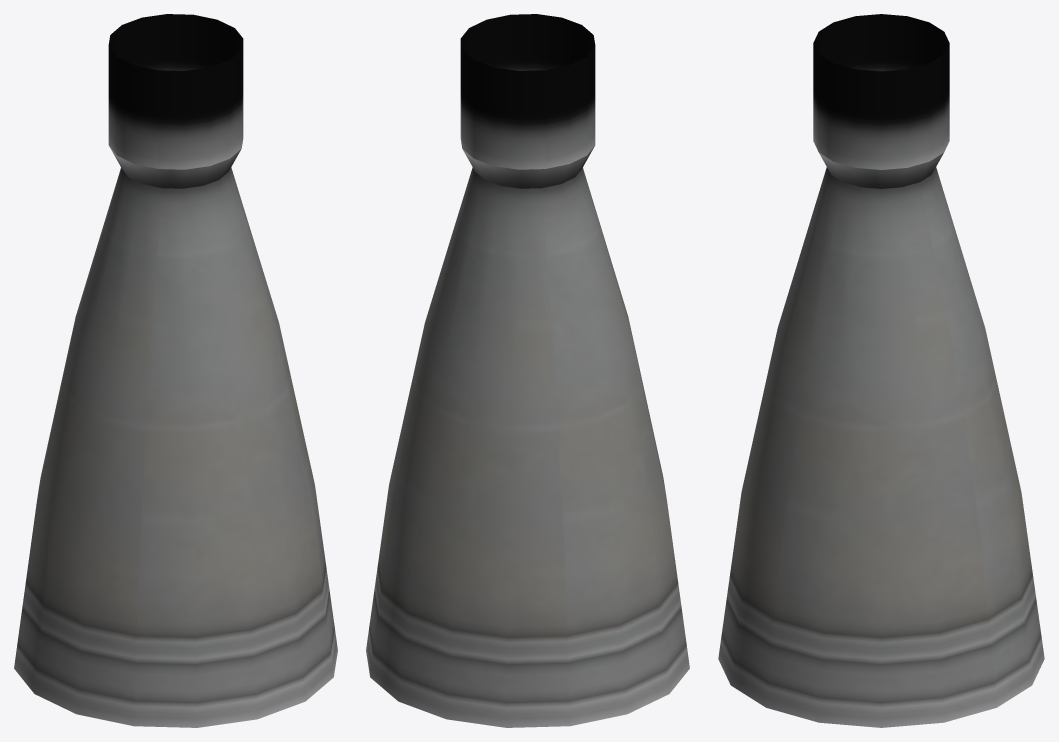
File: HLV_2_Engine_1_Vernier.obj
3 views of the same model, side by side, from view 1: azimuth 30°, elevation 25°; view 2: azimuth 150°, elevation 25°; view 3: azimuth 270°, elevation 25° (orthographic).
Parts seen in each view (by area): view 1: HLV_2_Engine_1_Vernier; view 2: HLV_2_Engine_1_Vernier; view 3: HLV_2_Engine_1_Vernier.
Part boxes in pixels (<box>): HLV_2_Engine_1_Vernier: <box>14,14,337,727</box>; HLV_2_Engine_1_Vernier: <box>366,14,689,727</box>; HLV_2_Engine_1_Vernier: <box>718,14,1044,727</box>.
Size of the model in its own units: 0.3 by 0.625 by 0.3.
